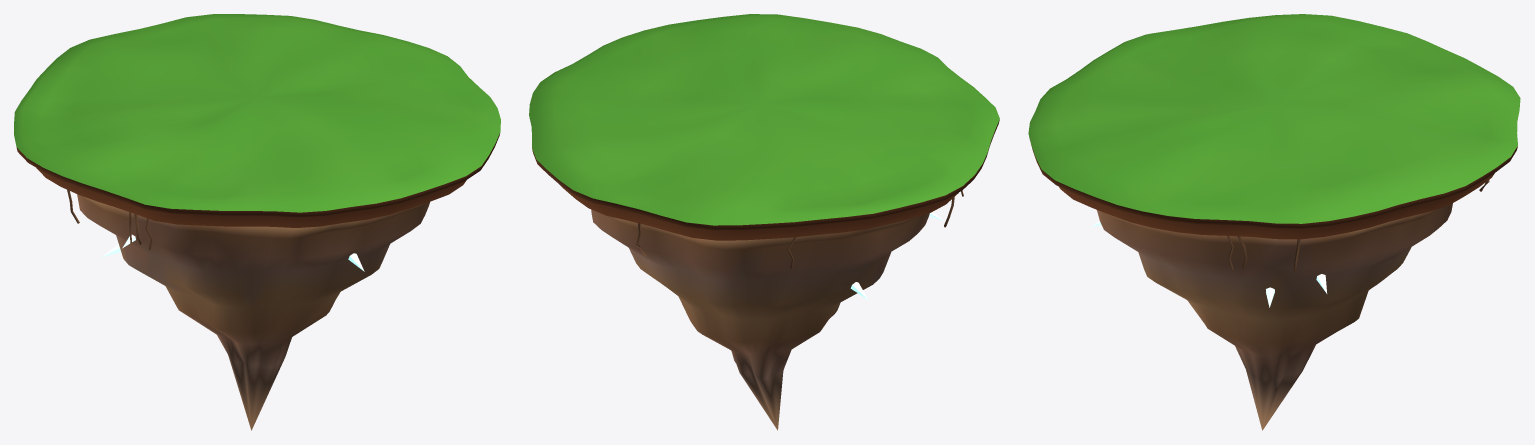
File: insel_1.glb
3 renders of one model, left to right at view 1: azimuth 30°, elevation 25°; view 2: azimuth 150°, elevation 25°; view 3: azimuth 270°, elevation 25°, orthographic. The views are drawn at different scales.
Parts seen in each view (by area): view 1: insel_1_lod0, insel_1_lod0_extra; view 2: insel_1_lod0, insel_1_lod0_extra; view 3: insel_1_lod0, insel_1_lod0_extra.
Boxes of the visible parts, x1=… form: insel_1_lod0: x1=14, y1=14, x2=500, y2=430; insel_1_lod0_extra: x1=67, y1=190, x2=364, y2=271; insel_1_lod0: x1=529, y1=14, x2=999, y2=430; insel_1_lod0_extra: x1=636, y1=190, x2=963, y2=299; insel_1_lod0: x1=1028, y1=14, x2=1520, y2=430; insel_1_lod0_extra: x1=1091, y1=180, x2=1489, y2=307.
Size of what is drawn, in the model's own units: 21.02 by 15.6 by 20.85.
